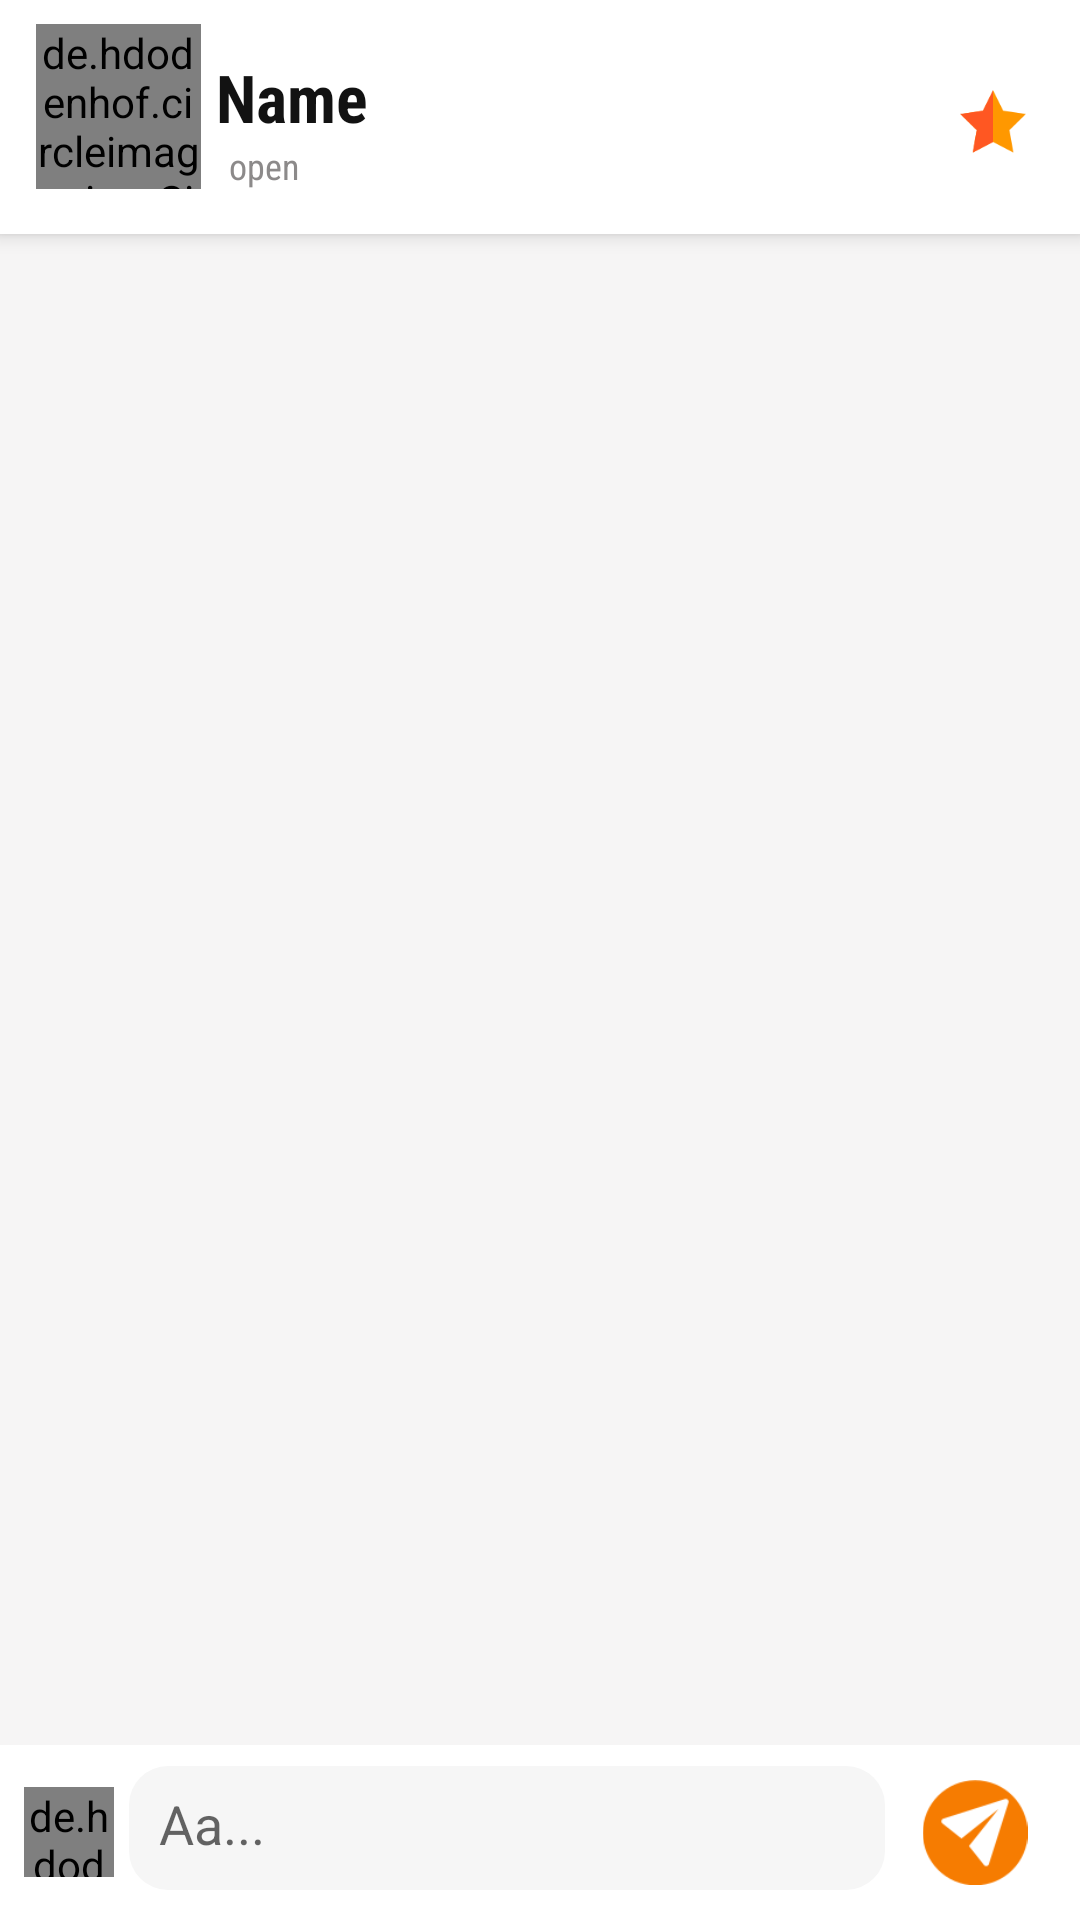

Named icons in this screenshot (1080 × 1920) and their centers, (x,y):
send: (975,1832)
star: (993,121)
